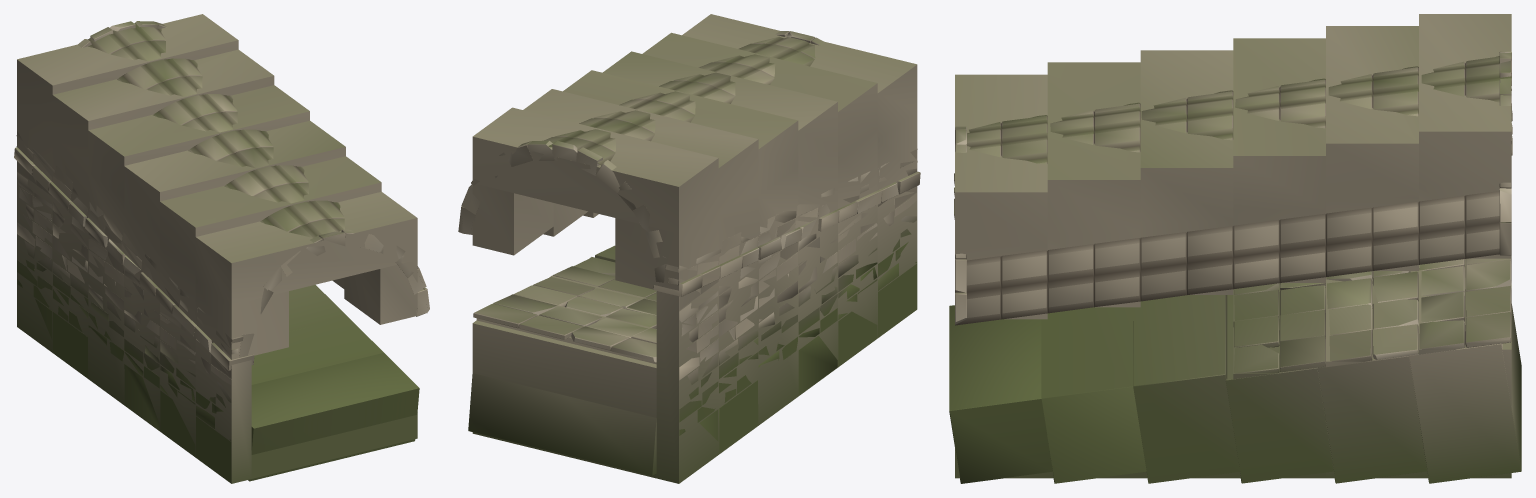
File: harbour_shed.glb
3 views of the same model, side by side, from view 1: azimuth 30°, elevation 25°; view 2: azimuth 150°, elevation 25°; view 3: azimuth 270°, elevation 25° (orthographic). The views are drawn at different scales.
Parts seen in each view (by area): view 1: harbour_shed_far, harbour_shed; view 2: harbour_shed_far, harbour_shed; view 3: harbour_shed, harbour_shed_far.
Part boxes in pixels (x1,y1,x2,y2): harbour_shed_far: [17, 14, 417, 483]; harbour_shed: [14, 21, 429, 483]; harbour_shed_far: [472, 14, 917, 483]; harbour_shed: [458, 31, 920, 475]; harbour_shed: [949, 51, 1521, 483]; harbour_shed_far: [955, 14, 1511, 478].
Bounding box in the file's own units: 30.1 × 40.26 × 57.08.
